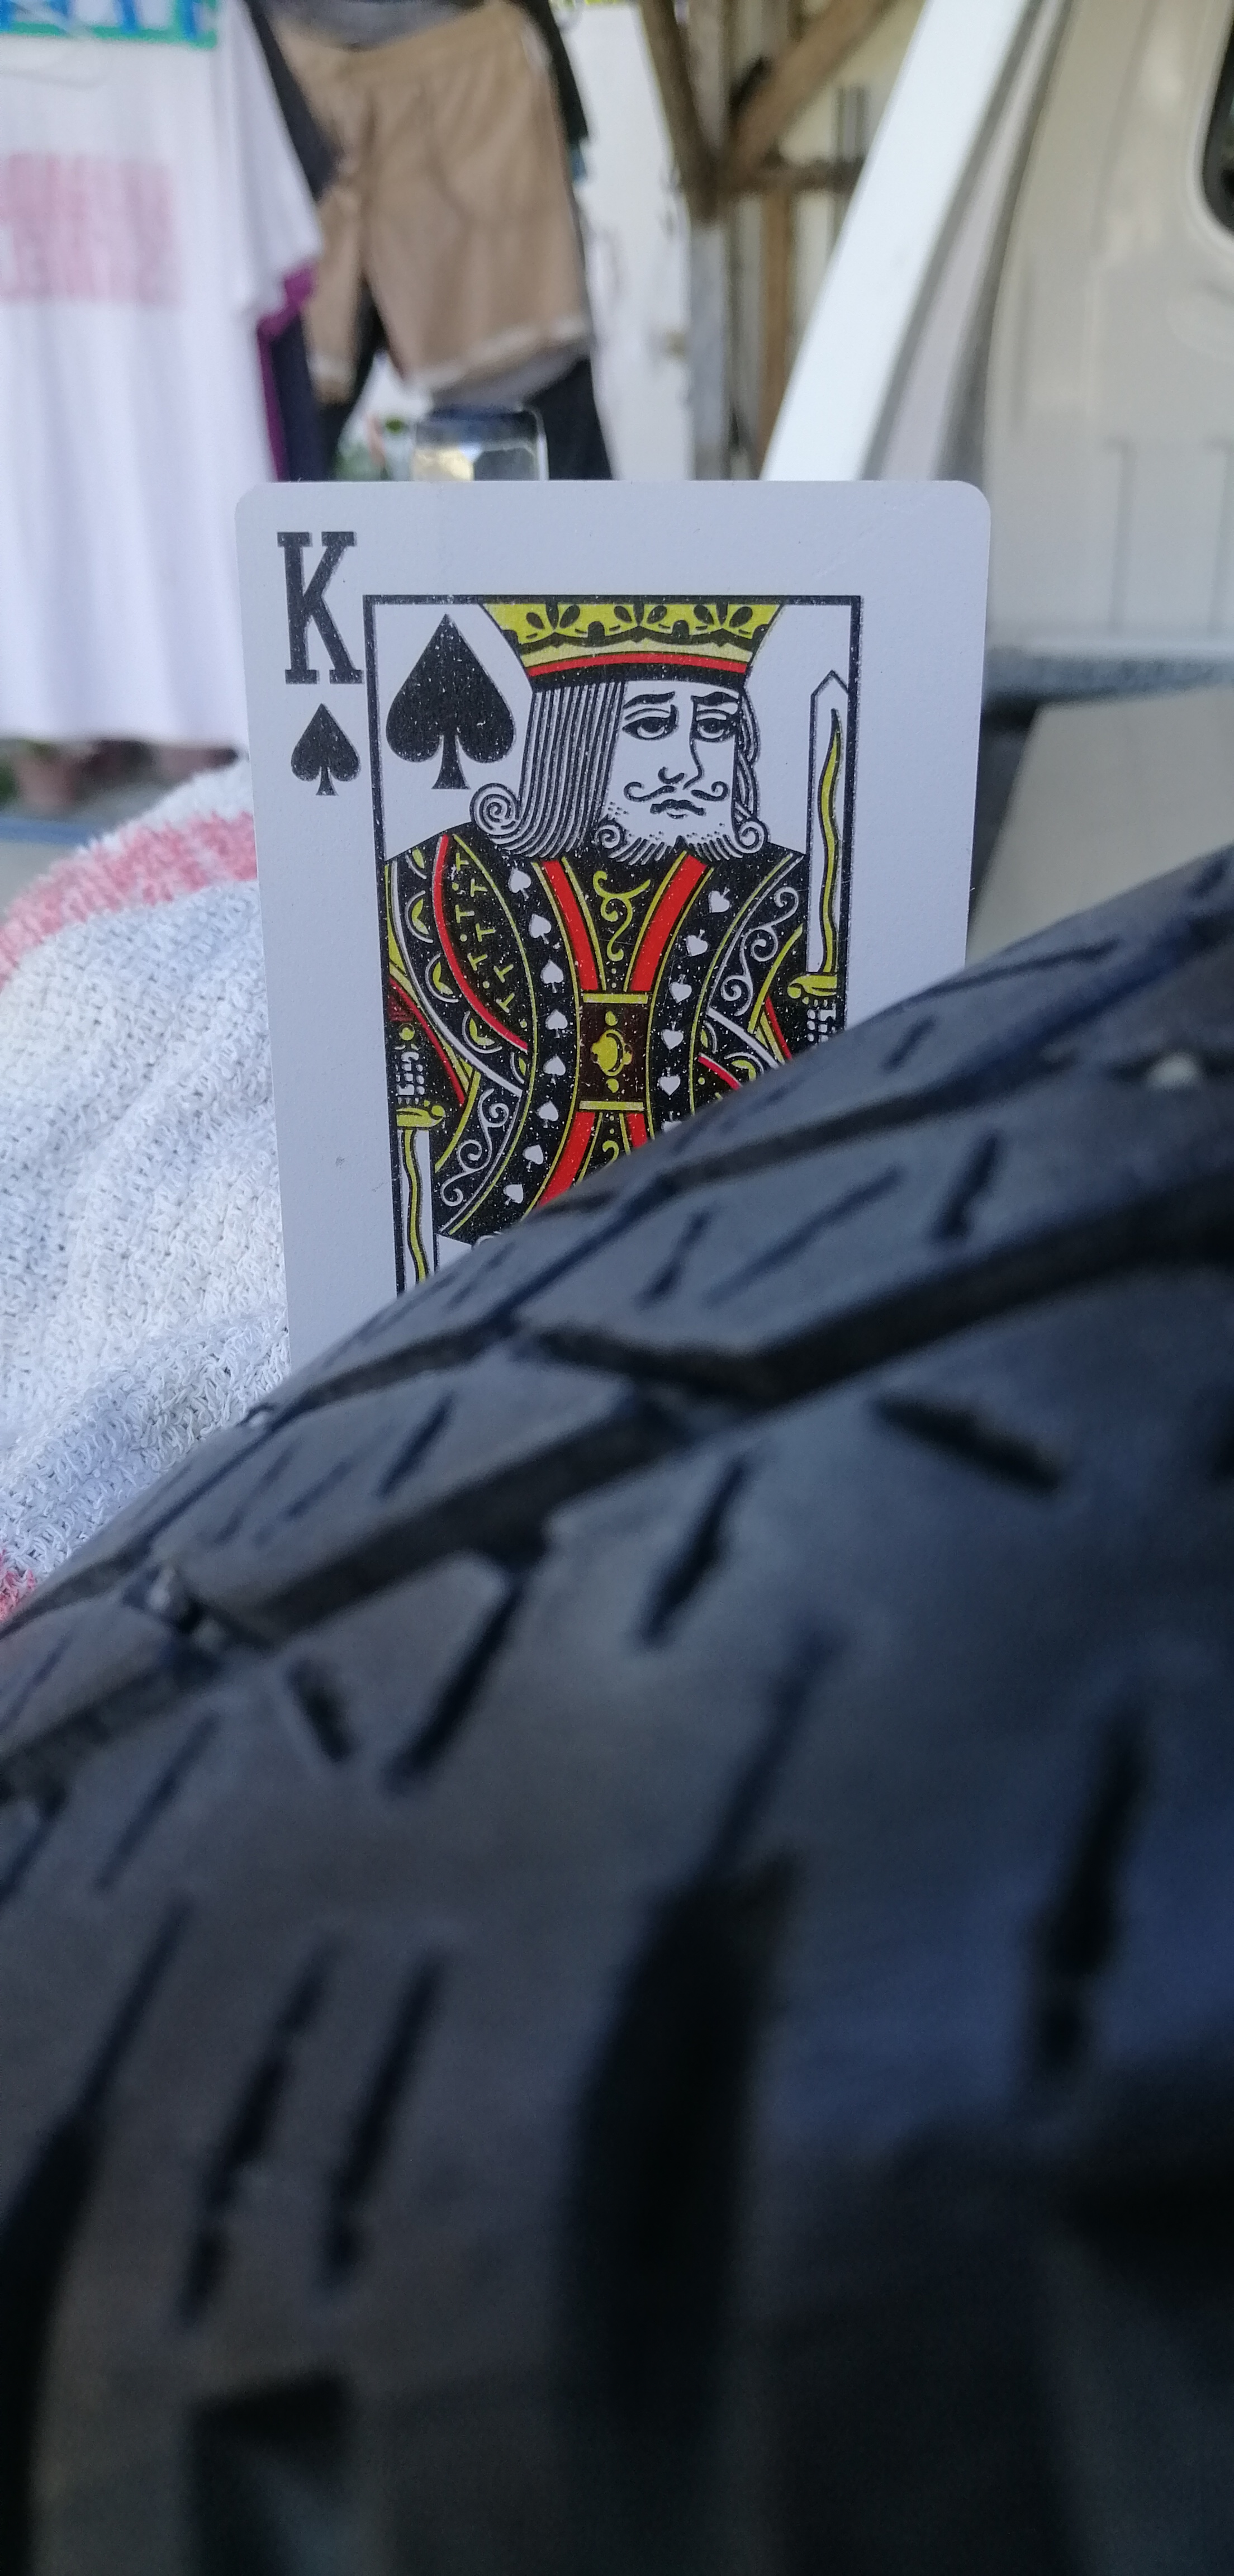king: (227, 476, 979, 1263)
